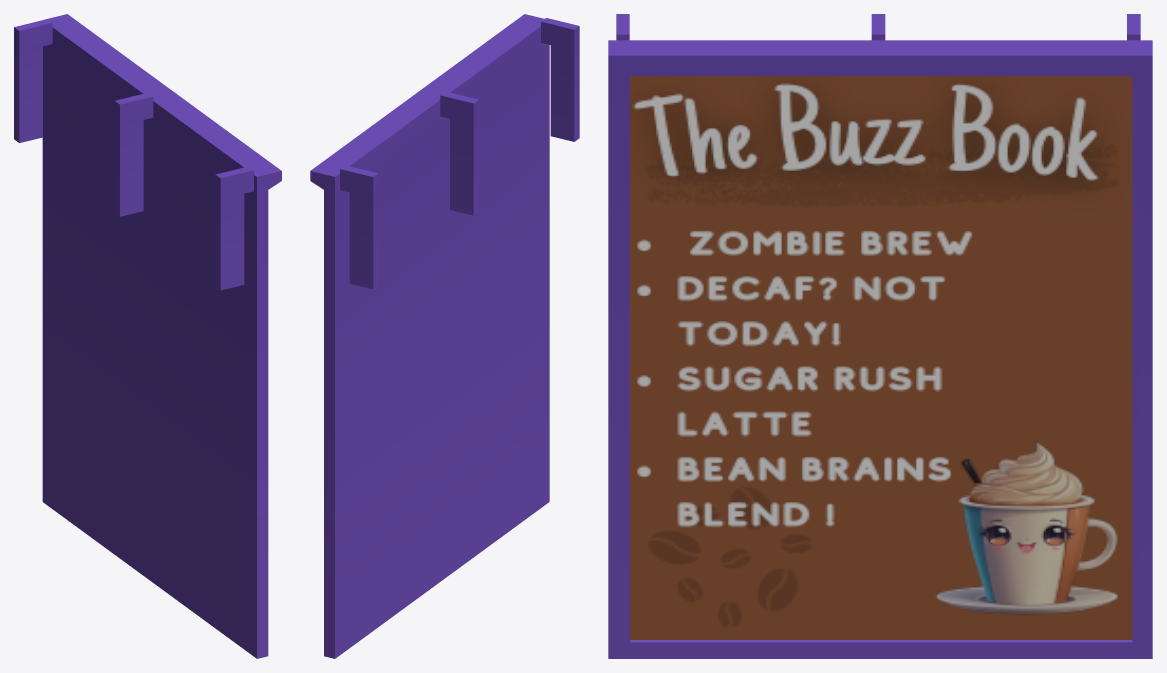
File: SignProp_2_C_5.glb
The picture shows the model from 3 angles, left to right: view 1: azimuth 30°, elevation 25°; view 2: azimuth 150°, elevation 25°; view 3: azimuth 270°, elevation 25°; orthographic projection. The views are drawn at different scales.
Visible parts, largest first — view 1: SignProp_2_C_5; view 2: SignProp_2_C_5; view 3: SignProp_2_C_5.
Boxes of the visible parts, <box> form: SignProp_2_C_5: <box>14,14,281,658</box>; SignProp_2_C_5: <box>310,14,579,658</box>; SignProp_2_C_5: <box>608,14,1152,658</box>.
Size of the model in its own units: 0.1449 by 1.16 by 0.9255.
Materials: 2 (2 with a texture image).
